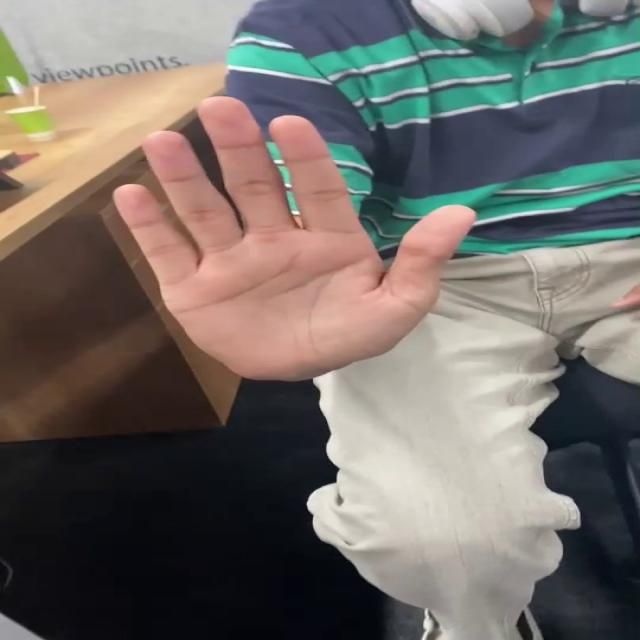no-gloves: (84, 88, 482, 394)
